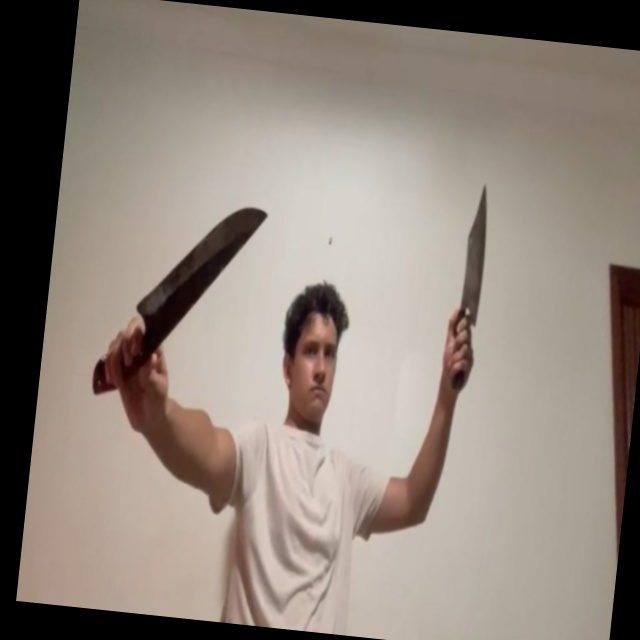Sharp-Object: (134, 195, 270, 336), (458, 182, 492, 322)
